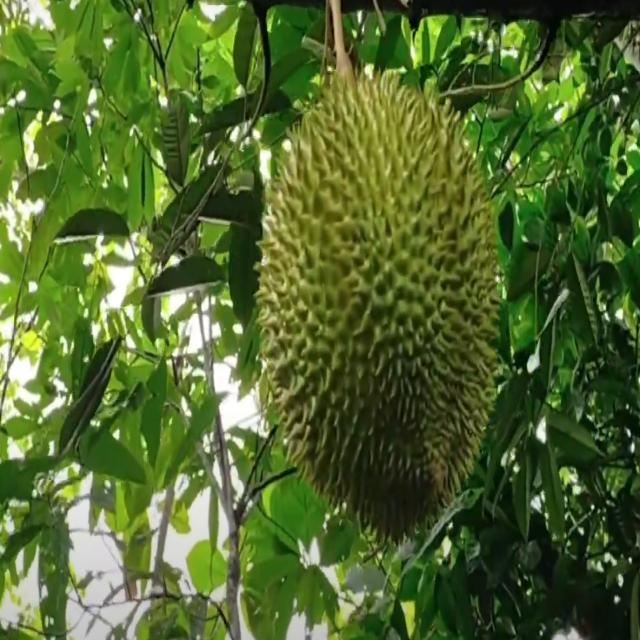immature: (252, 66, 504, 549)
